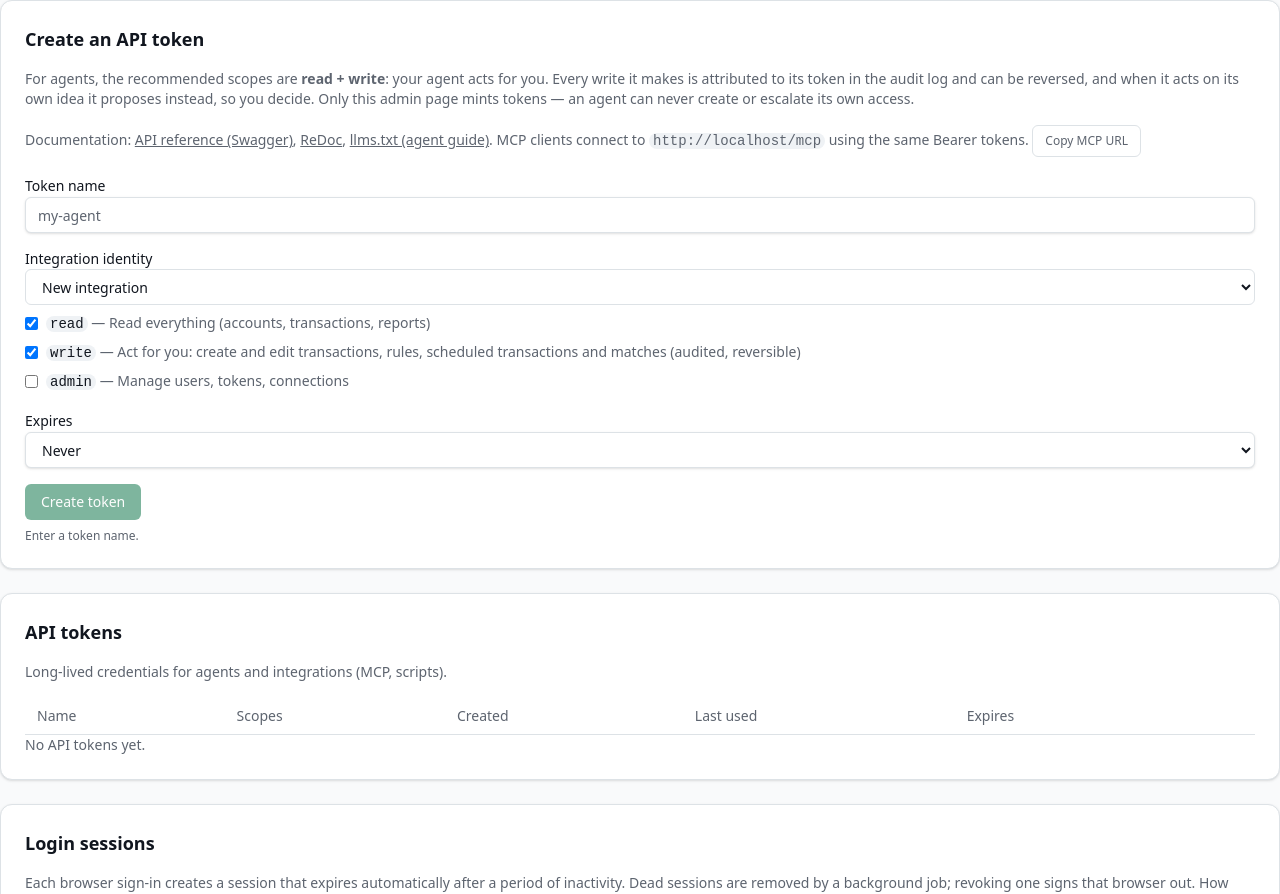
Test case: Tokens: create › says why Create token is disabled
Check: the button "Create token" is disabled, box [25,484,141,520]
Type "ci-agent" into the field labelled "Token name" at [640, 215], box [25,197,1255,233]
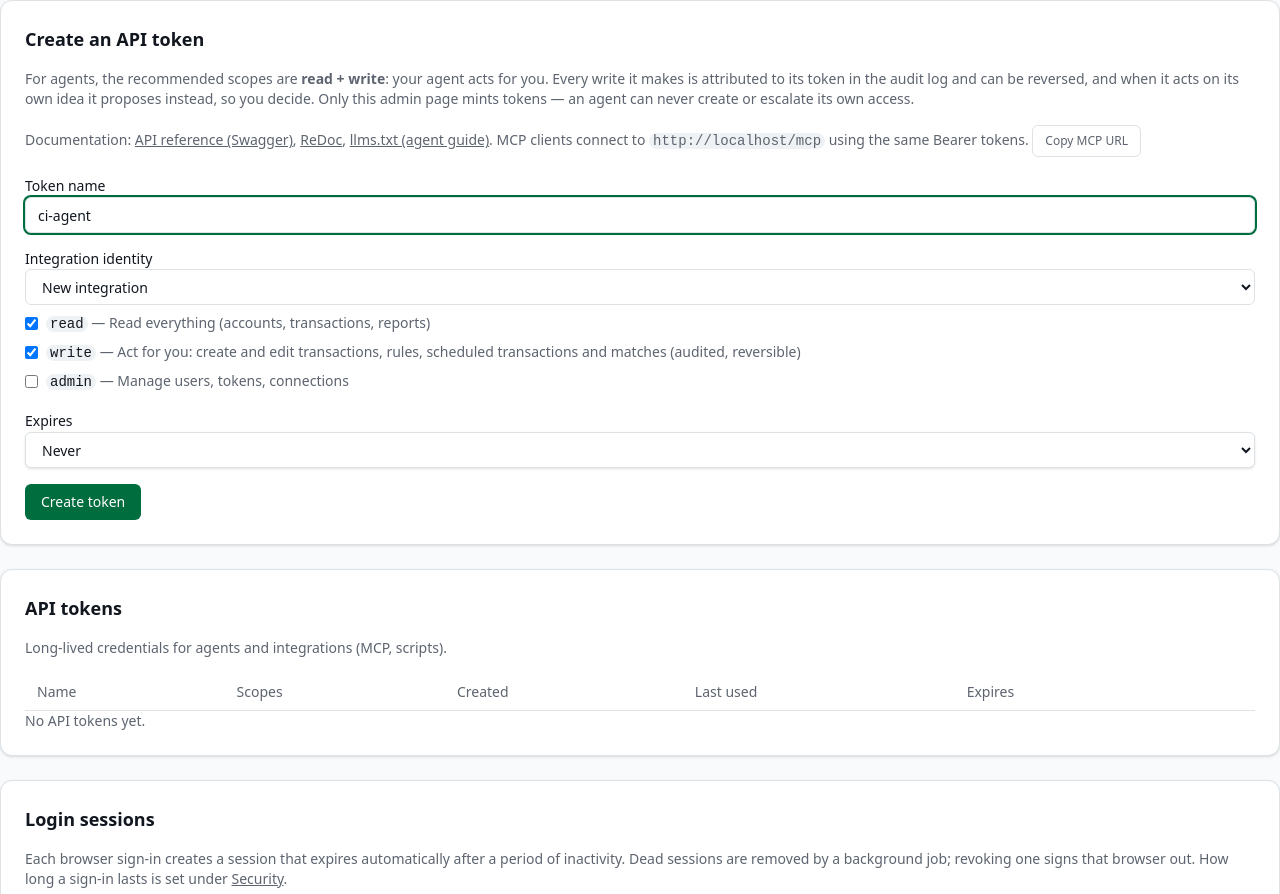
Check: the button "Create token" is enabled, box [25,484,141,520]
Check: the text "Enter a token name." is gone
Click the checkbox labelled "read — Read everything (accounts, transactions, reports)" at [32, 324], box [25,317,38,330]
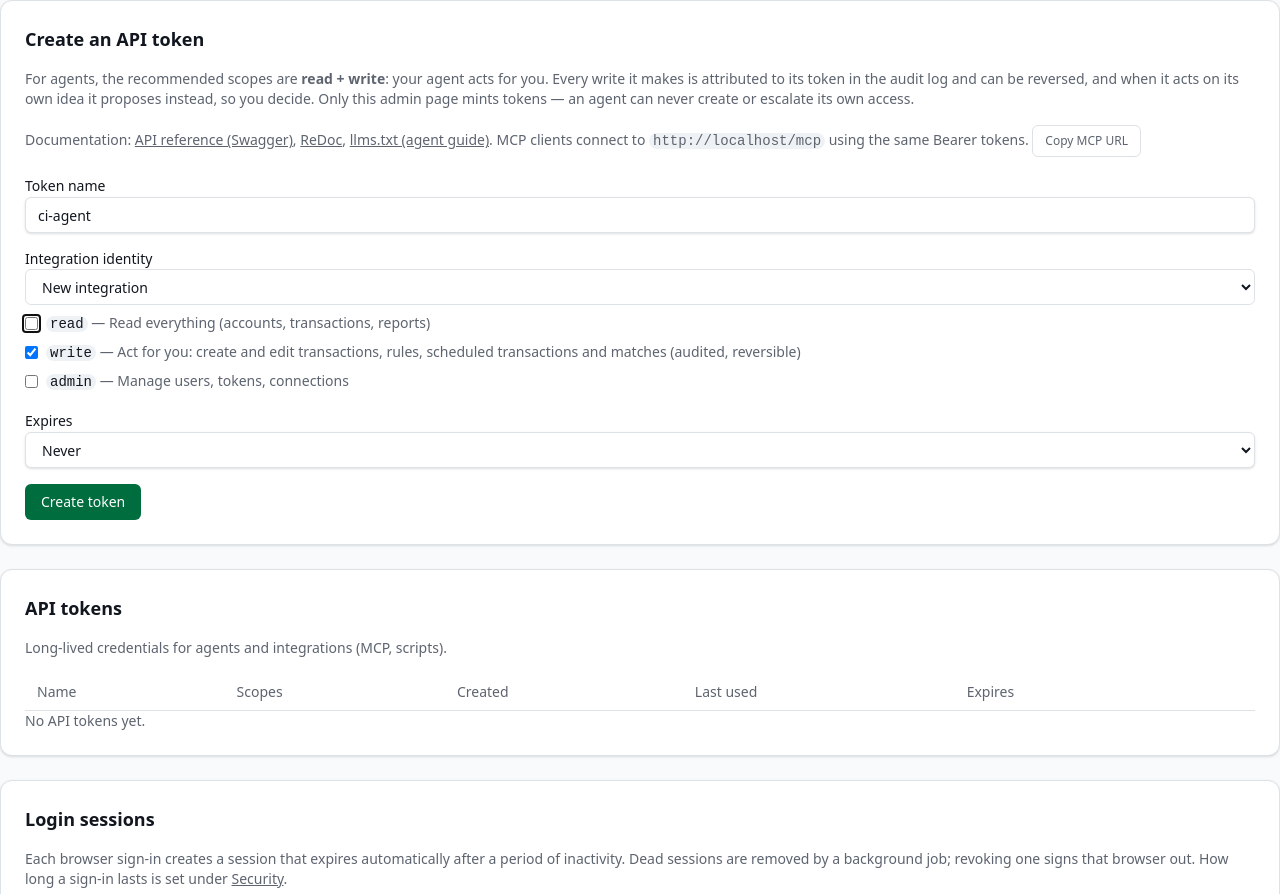
Click the checkbox labelled "write" at [32, 352], box [25,346,38,359]
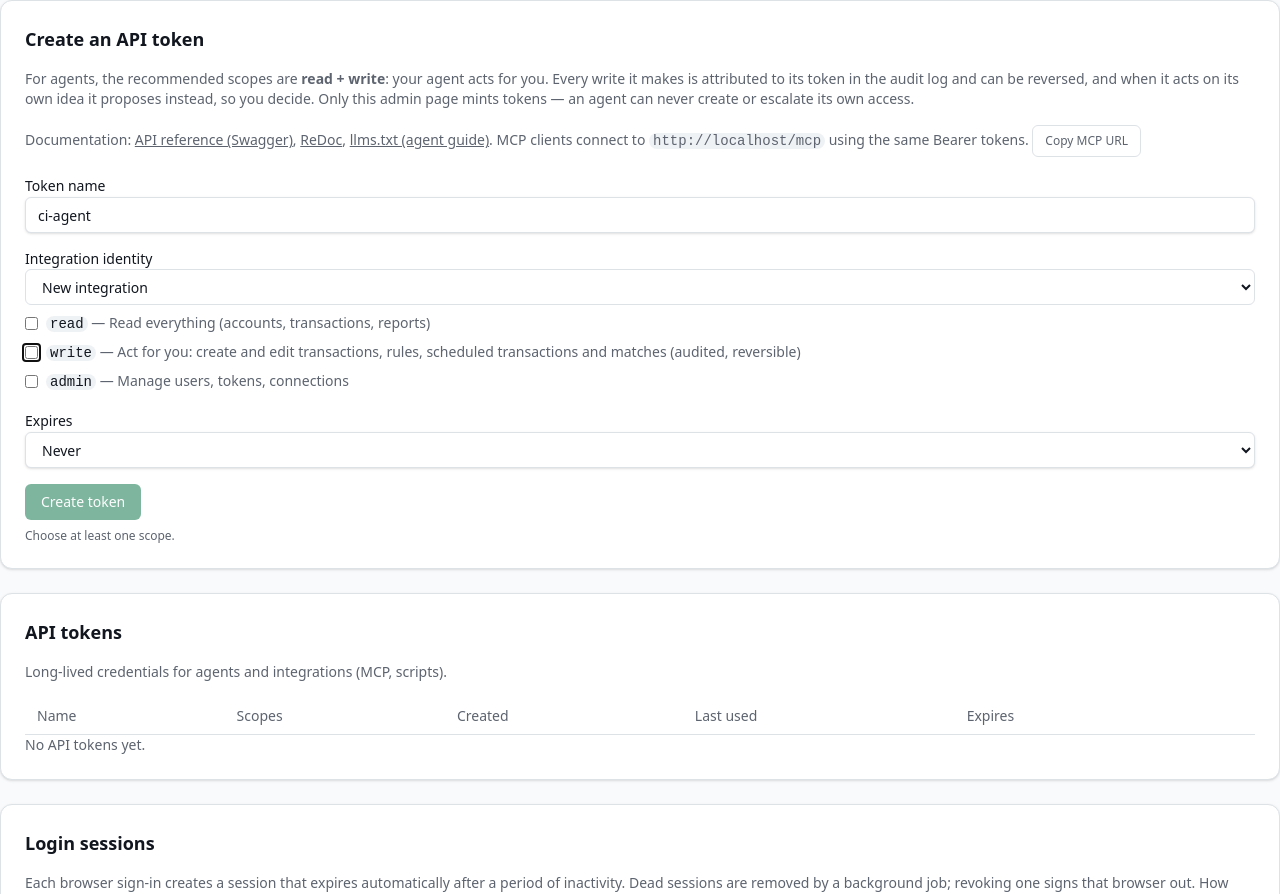
Check: the button "Create token" is disabled, box [25,484,141,520]
